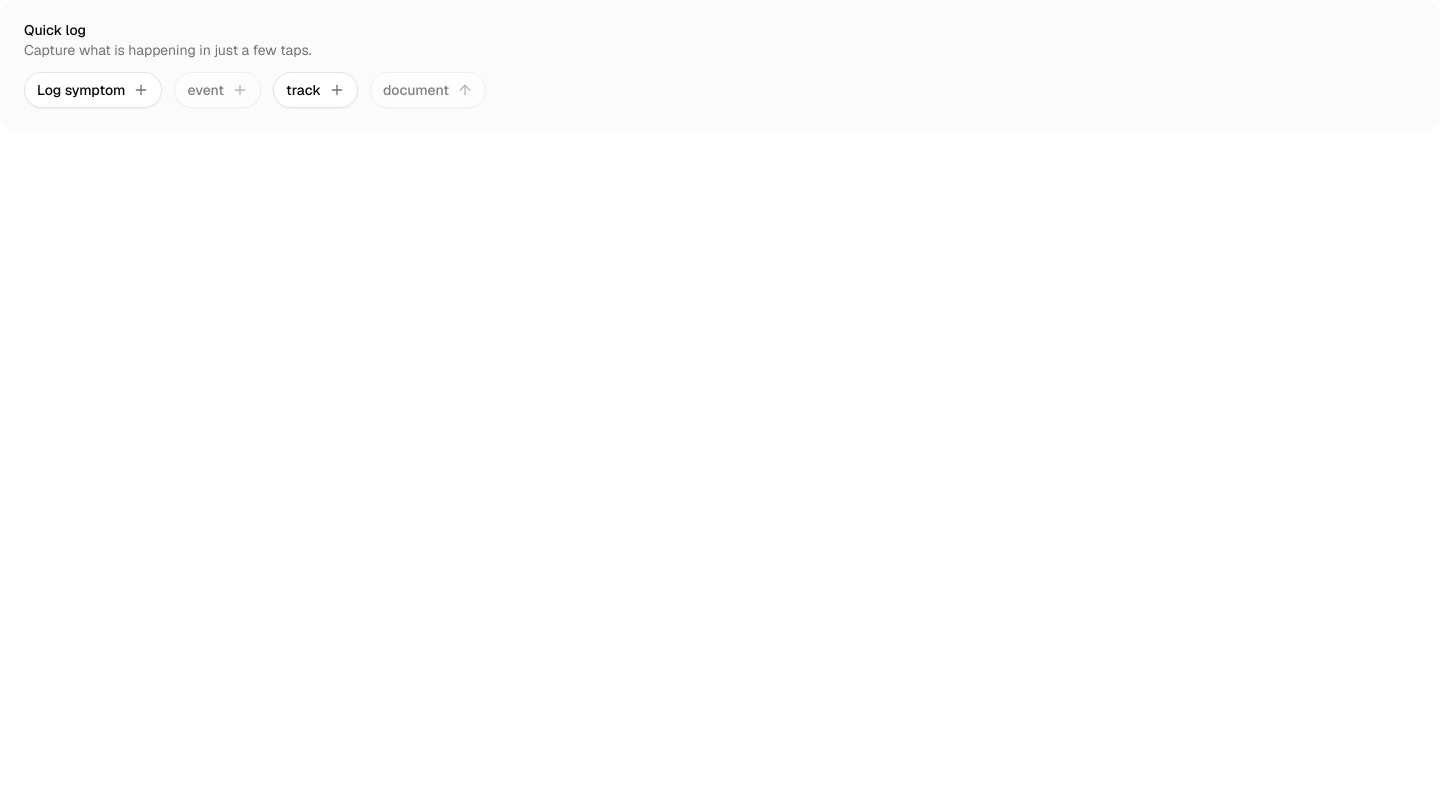
Test case: HubQuickActions - track button › opens track create dialog when track button is clicked
Click the button "track" at (315, 90), box [273,72,358,108]
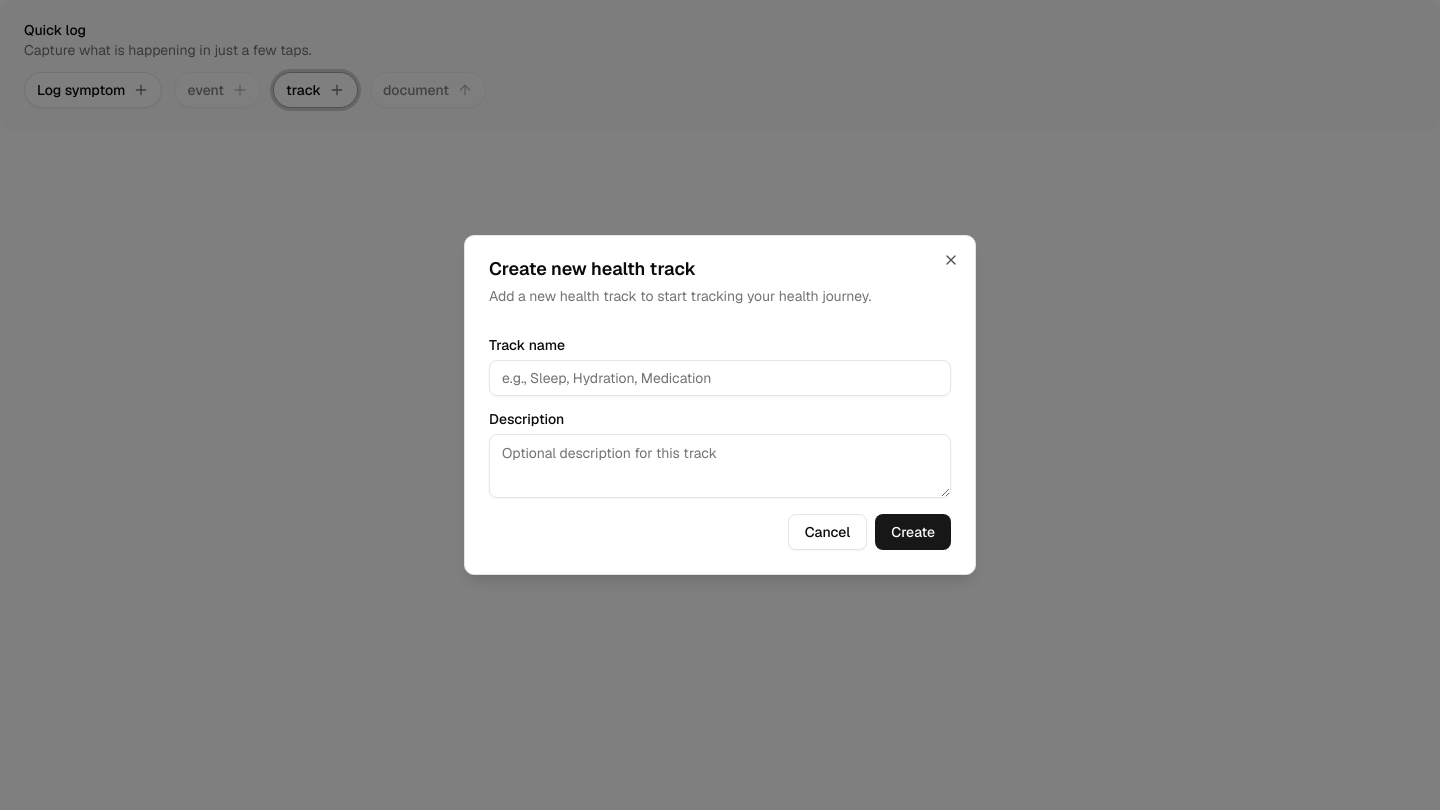
Expected: the heading "Create new health track" is shown, [489,257,696,280]
